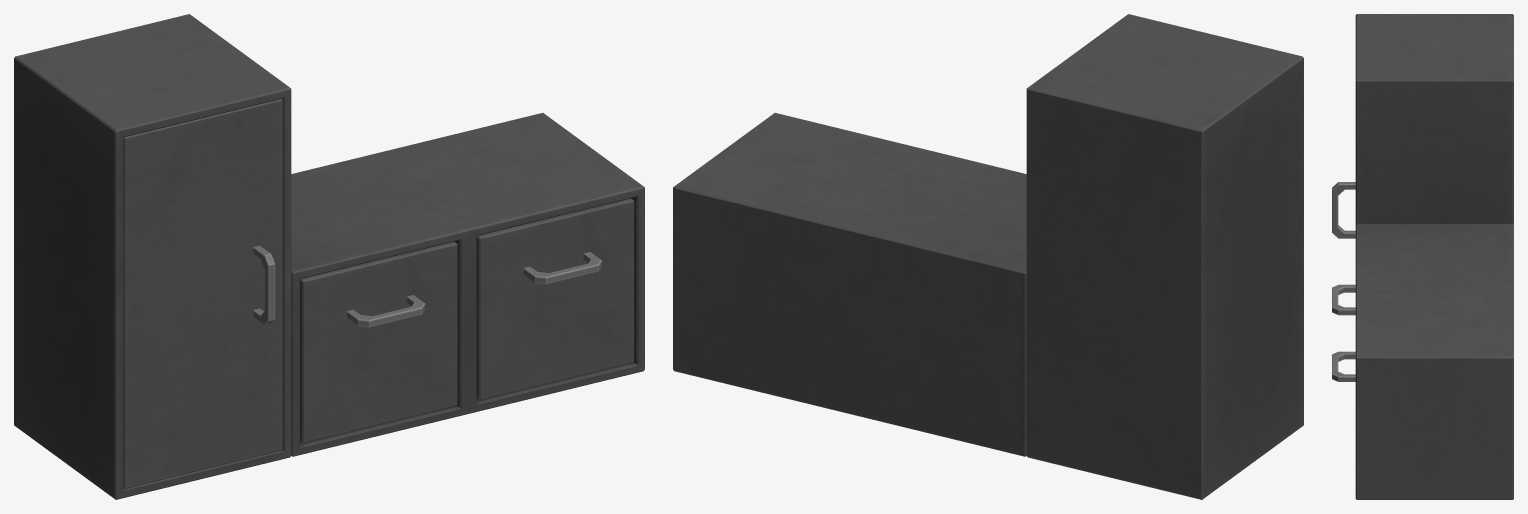
The model's file is office-cabinet.glb.
3 renders of one model, left to right at view 1: azimuth 30°, elevation 25°; view 2: azimuth 150°, elevation 25°; view 3: azimuth 270°, elevation 25°, orthographic. The views are drawn at different scales.
Visible parts, largest first — view 1: office-cabinet; view 2: office-cabinet; view 3: office-cabinet.
Part boxes in pixels (x1,y1,x2,y2): office-cabinet: [14, 14, 644, 499]; office-cabinet: [673, 14, 1303, 499]; office-cabinet: [1332, 14, 1513, 499].
Bounding box in the file's own units: 1.5 × 1 × 0.575.
Materials: 2 (2 with a texture image).
